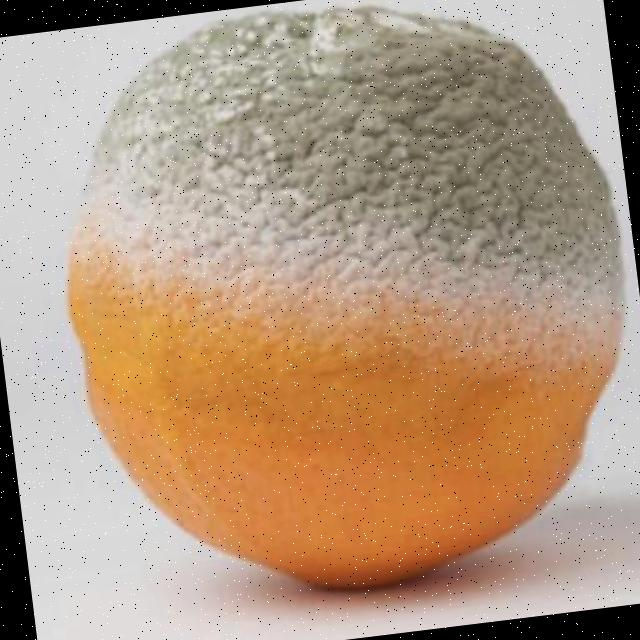rotten orange: (32, 0, 640, 622)
